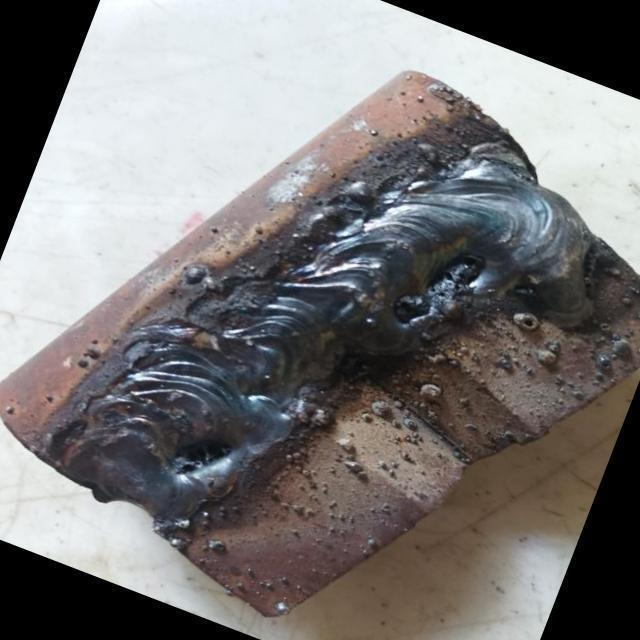defect: (392, 250, 486, 320), (168, 440, 243, 480)
